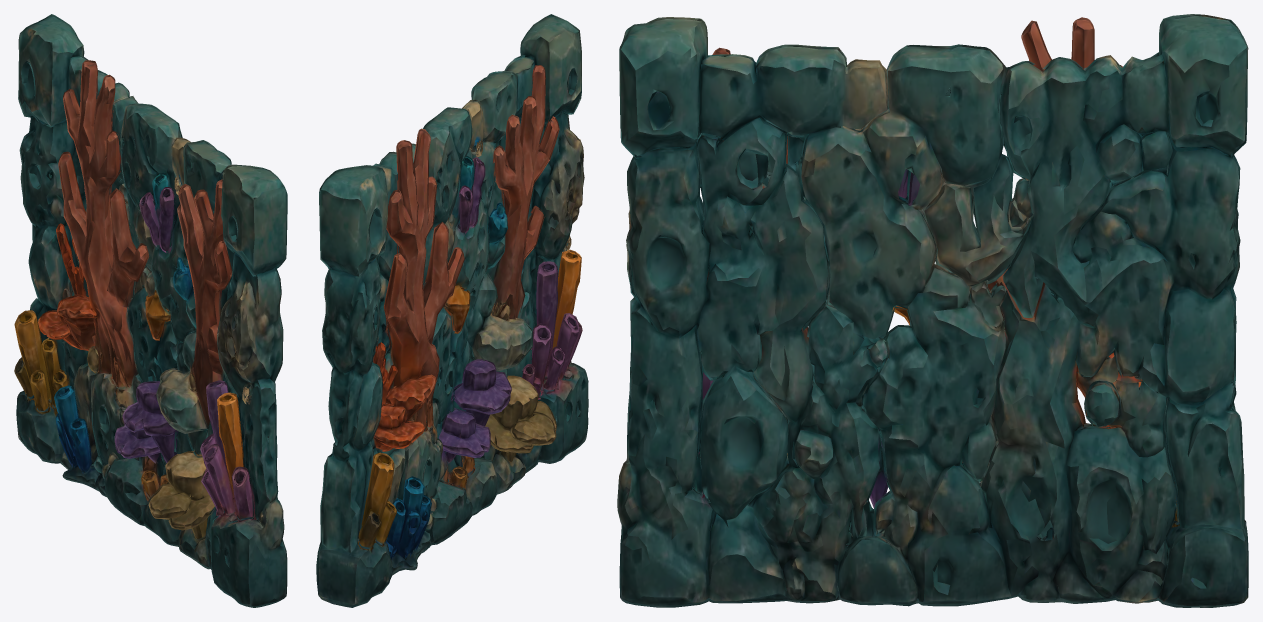
The model's file is OceanWall_CoralReef_A_UnrealReady.glb.
The picture shows the model from 3 angles, left to right: view 1: azimuth 30°, elevation 25°; view 2: azimuth 150°, elevation 25°; view 3: azimuth 270°, elevation 25°; orthographic projection. The views are drawn at different scales.
Parts seen in each view (by area): view 1: OceanWall_CoralReef_A_UnrealReady; view 2: OceanWall_CoralReef_A_UnrealReady; view 3: OceanWall_CoralReef_A_UnrealReady.
Part boxes in pixels (x1,y1,x2,y2): OceanWall_CoralReef_A_UnrealReady: [14, 14, 287, 607]; OceanWall_CoralReef_A_UnrealReady: [316, 14, 588, 607]; OceanWall_CoralReef_A_UnrealReady: [617, 14, 1248, 607].
Bounding box in the file's own units: 1.2 × 6 × 6.
1 material, 1 textured.
